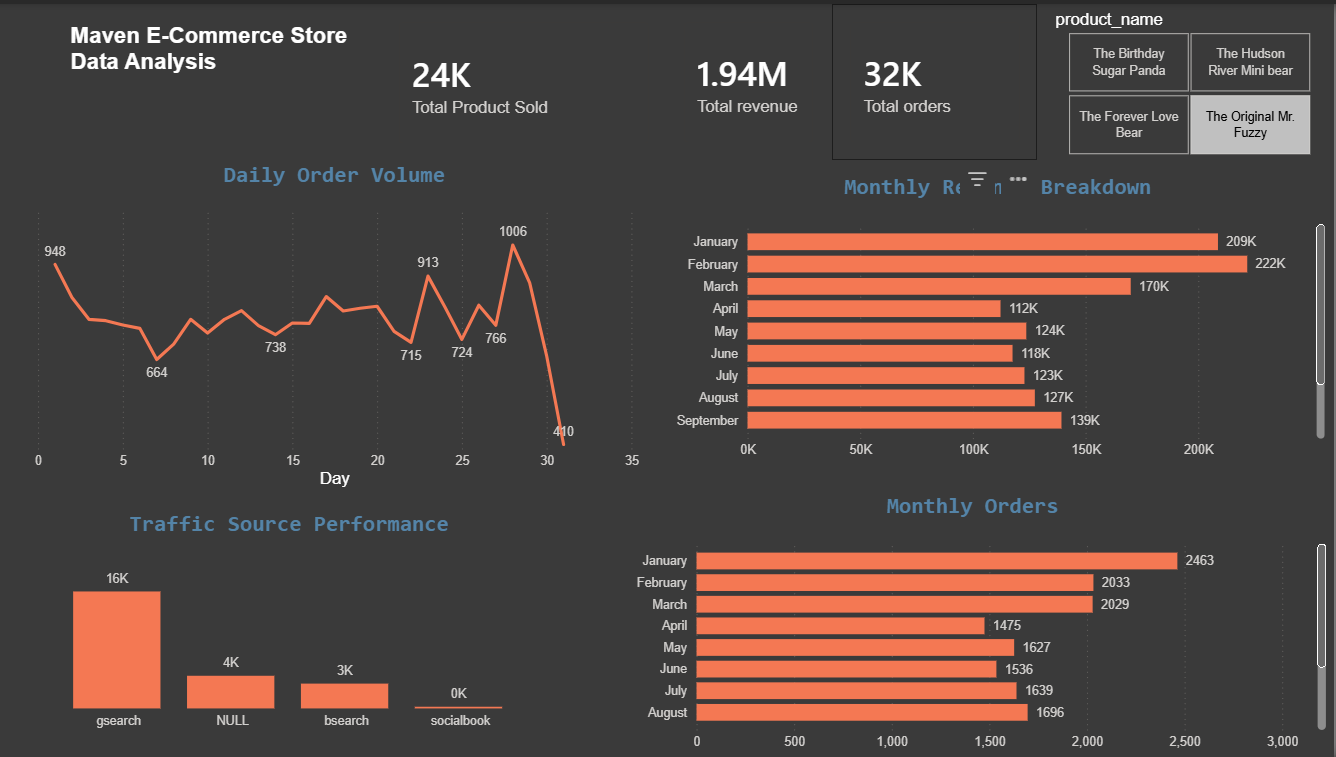

What the dashboard file says about the page in this screenshot:
{"tool":"powerbi","page":{"name":"Page 1","canvas":[1280,720],"ordinal":0},"visuals":[{"type":"clusteredBarChart","title":"Monthly Revenue Breakdown","fields":{"Category":["orders.created_at.Variation.Date Hierarchy.Month"],"Y":["Sum(orders.price_usd)"]},"box":[640.5,162,634.5,280.1],"z":0},{"type":"clusteredBarChart","title":"Monthly Orders","fields":{"Category":["order_items.created_at.Variation.Date Hierarchy.Month"],"Y":["CountNonNull(order_items.order_item_id)"]},"box":[591.5,466.8,684.1,253.2],"z":1000},{"type":"lineChart","title":"Daily Order Volume","fields":{"Category":["orders.created_at.Variation.Date Hierarchy.Day"],"Y":["Count(order_items.order_item_id)"]},"box":[25.7,149.9,596.6,316.5],"z":2000},{"type":"clusteredColumnChart","title":"Traffic Source Performance","fields":{"Category":["website_sessions.utm_source"],"Y":["CountNonNull(order_items.order_item_id)"]},"box":[25.7,484.5,510.3,216.5],"z":3000},{"type":"slicer","fields":{"Values":["products.product_name"]},"box":[1000.5,0,280,150],"z":4000},{"type":"textbox","box":[26.5,13.3,323,130.9],"z":5000},{"type":"cardVisual","fields":{"Data":["order_item_refunds.Total revenue"]},"box":[640.6,0,158.7,149.3],"z":6000},{"type":"cardVisual","fields":{"Data":["order_item_refunds.Total orders"]},"box":[799.4,0,196.5,149.3],"z":7000},{"type":"cardVisual","fields":{"Data":["order_item_refunds.Total Product Sold"]},"box":[368,0,273,150],"z":8000}]}

Visuals, with their boxes in screenshot pixels (x1, y1, x2, y2), scaled from the page's 1280x720 canvas onto the 1336x757 screenshot:
"Monthly Revenue Breakdown" clusteredBarChart: (669, 170, 1331, 465)
"Monthly Orders" clusteredBarChart: (617, 491, 1331, 756)
"Daily Order Volume" lineChart: (27, 158, 650, 490)
"Traffic Source Performance" clusteredColumnChart: (27, 509, 559, 737)
slicer - products.product_name: (1044, 0, 1335, 158)
textbox: (28, 14, 365, 152)
cardVisual - order_item_refunds.Total revenue: (669, 0, 834, 157)
cardVisual - order_item_refunds.Total orders: (834, 0, 1039, 157)
cardVisual - order_item_refunds.Total Product Sold: (384, 0, 669, 158)
